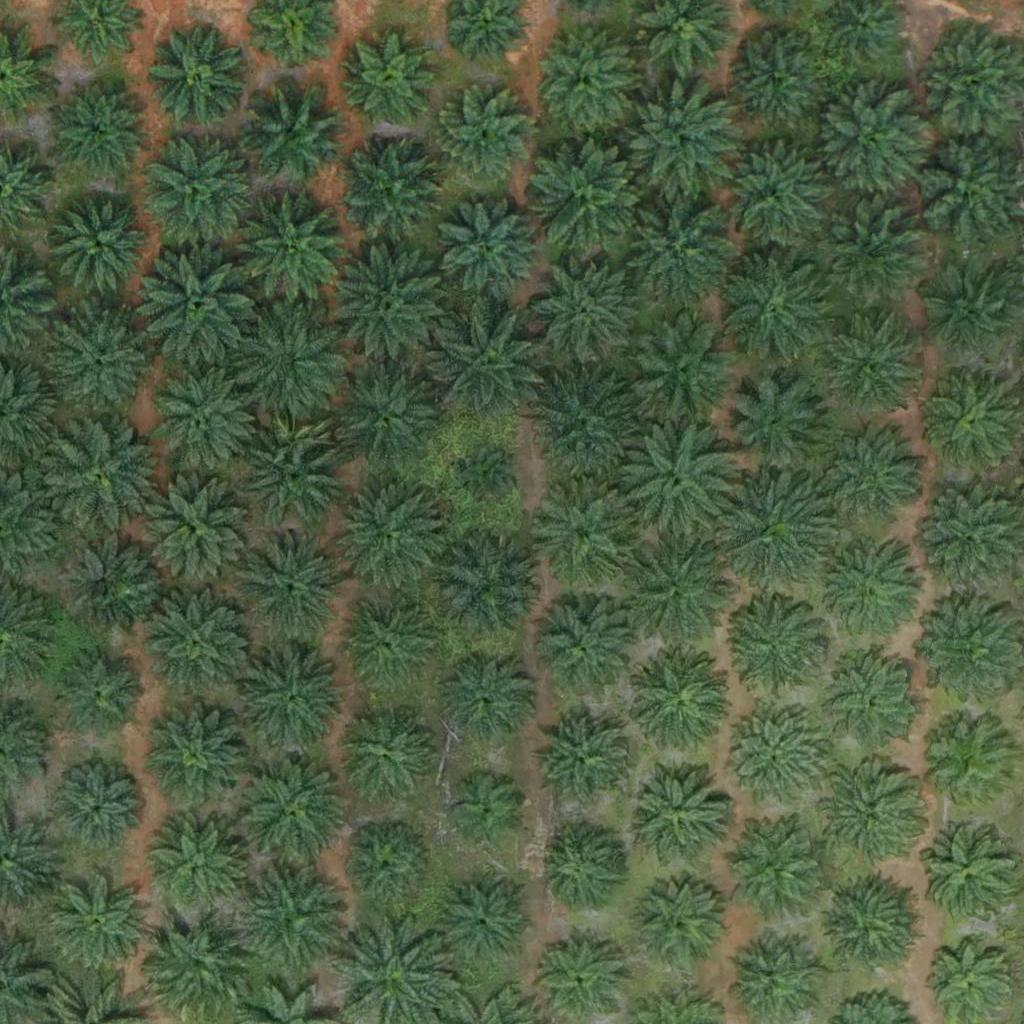Kelapa_Sawit: (132, 245, 257, 371), (225, 302, 350, 428), (321, 244, 446, 370), (426, 303, 551, 429), (527, 134, 652, 260), (523, 363, 648, 489), (610, 183, 735, 309), (620, 414, 745, 540), (715, 245, 840, 371), (710, 470, 835, 596), (616, 528, 741, 654), (35, 415, 160, 540), (711, 137, 836, 262), (230, 856, 355, 981), (235, 193, 348, 307), (335, 134, 448, 248), (434, 529, 547, 643), (327, 361, 440, 474), (332, 478, 445, 591), (624, 83, 737, 196), (625, 315, 738, 428), (720, 371, 833, 484), (819, 425, 932, 538), (807, 533, 920, 646), (240, 643, 353, 756), (237, 756, 350, 869), (532, 478, 644, 592), (141, 128, 253, 241), (144, 364, 256, 477), (234, 413, 346, 526), (435, 195, 547, 308), (526, 252, 638, 365), (813, 86, 925, 199), (814, 198, 926, 311), (331, 592, 443, 705), (236, 526, 348, 639), (48, 78, 148, 179), (50, 194, 150, 295), (47, 310, 147, 411), (144, 482, 244, 583), (431, 88, 531, 189), (535, 29, 635, 130), (724, 31, 824, 132), (923, 265, 1023, 366), (920, 712, 1020, 813), (822, 653, 922, 754), (820, 764, 920, 865), (723, 597, 823, 698), (432, 875, 532, 976), (337, 706, 437, 807), (148, 596, 248, 697), (142, 707, 242, 808), (145, 820, 245, 921), (148, 920, 248, 1021), (56, 533, 156, 634), (47, 872, 147, 973), (148, 23, 248, 123), (243, 81, 343, 181), (815, 880, 915, 980), (725, 706, 825, 806), (724, 817, 824, 917), (628, 655, 728, 755), (628, 765, 728, 865), (630, 877, 730, 977), (528, 599, 628, 699), (535, 712, 635, 812), (436, 654, 536, 754), (919, 826, 1018, 927), (53, 653, 141, 742), (346, 33, 434, 121), (826, 321, 914, 409), (339, 822, 427, 910), (50, 765, 138, 853), (532, 824, 619, 912), (532, 935, 619, 1023), (447, 769, 522, 845), (456, 449, 519, 512)
